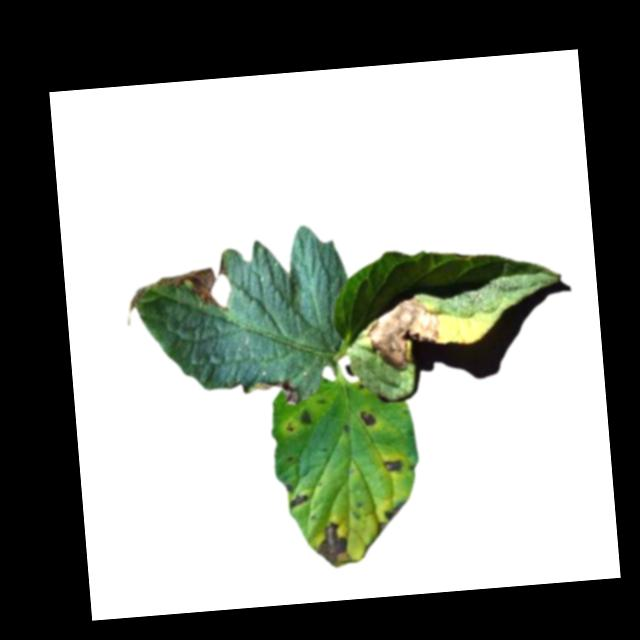Early_blight: (119, 252, 233, 327), (363, 293, 445, 376), (314, 519, 359, 574), (254, 372, 303, 406), (287, 493, 311, 511), (383, 503, 406, 520), (383, 459, 405, 475), (359, 408, 375, 428), (299, 410, 312, 430)
